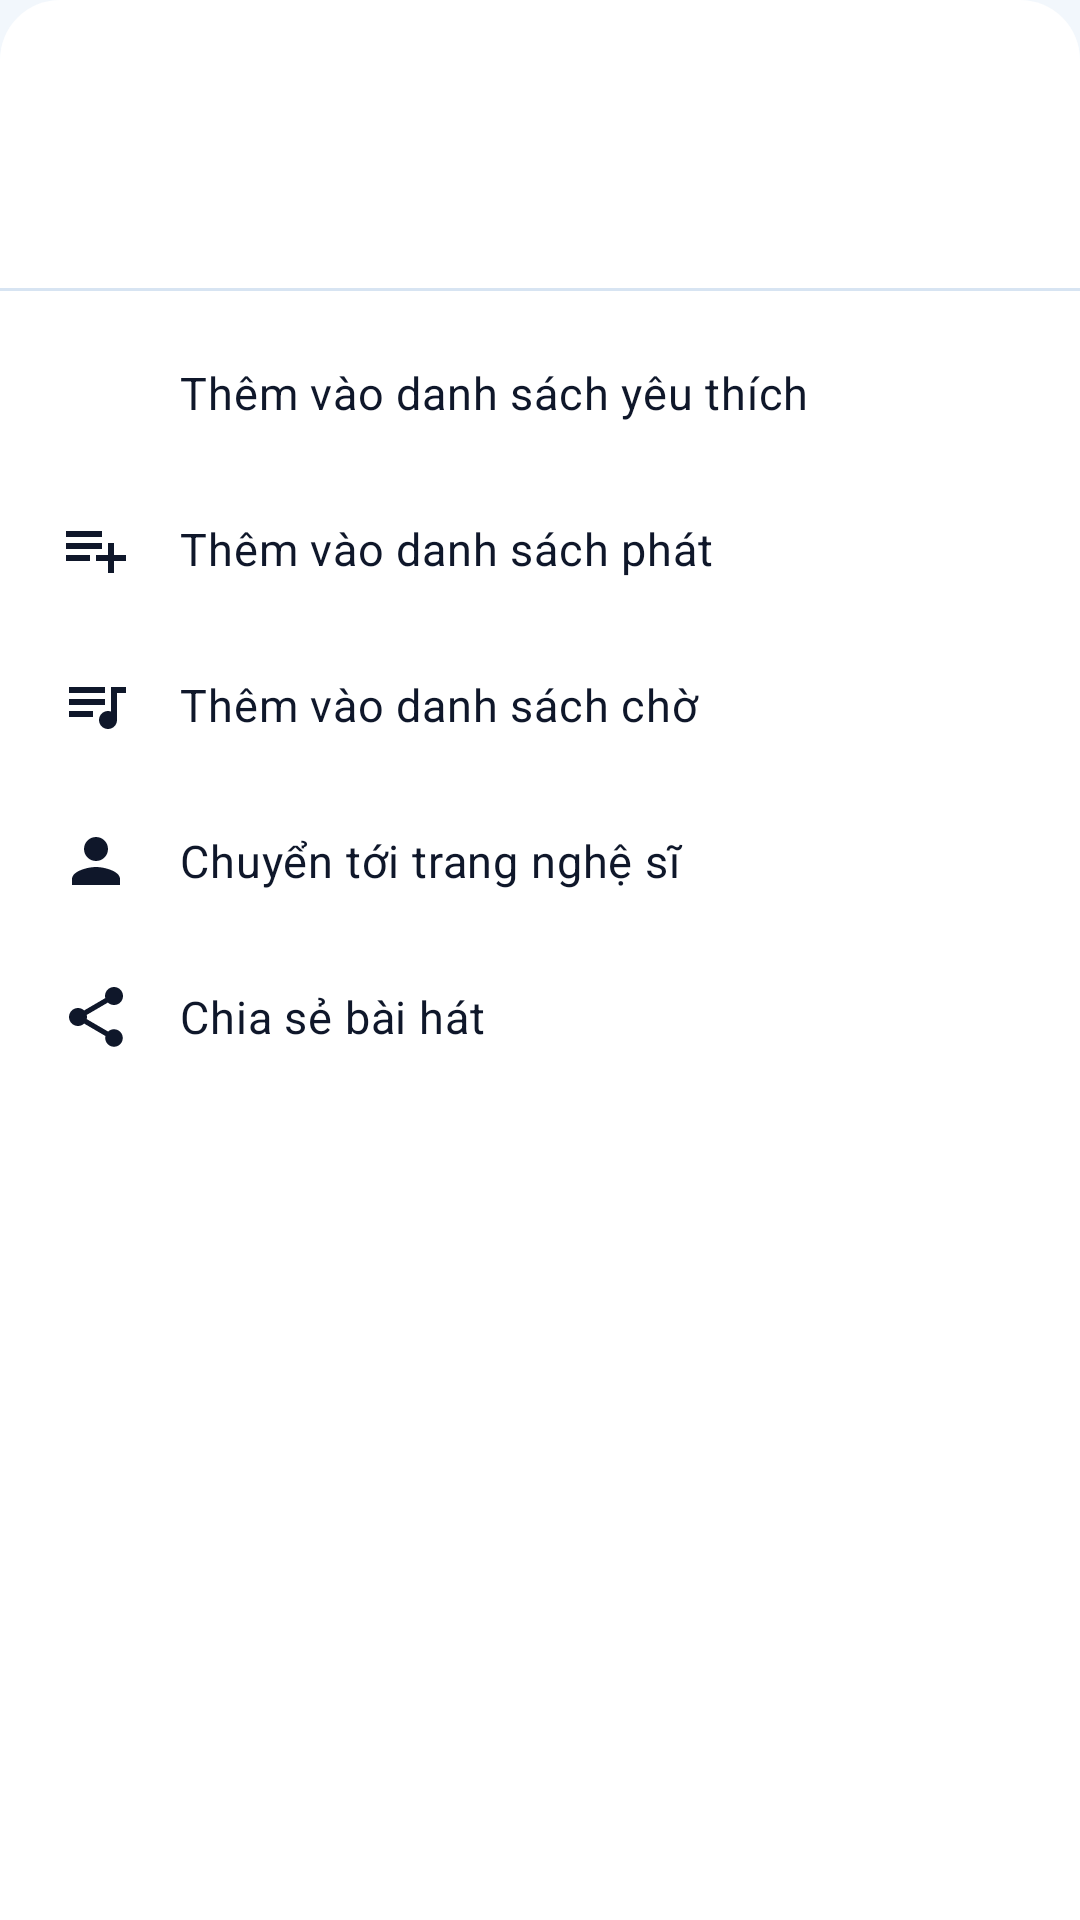

Point at icon controls on the screen. Image size 1080 × 1920, points as (x=x, y=y).
person: (x=96, y=861)
playlist add: (x=96, y=552)
queue music: (x=97, y=708)
share: (x=96, y=1017)
